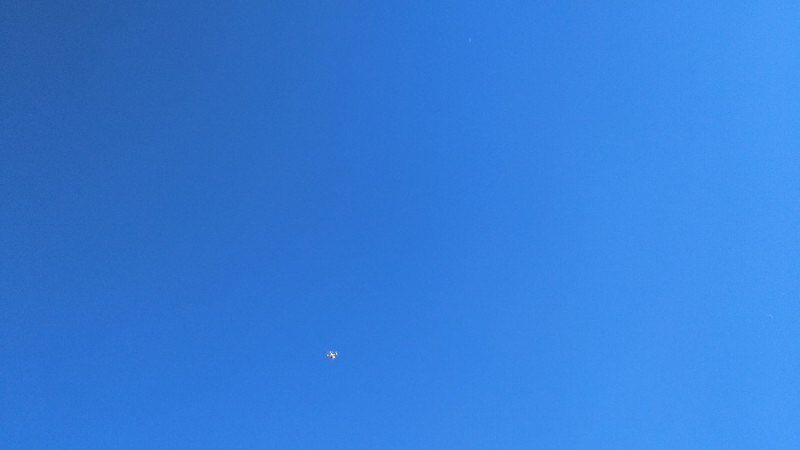drone: (325, 348, 339, 362)
